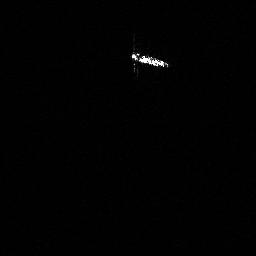ship: (130, 49, 170, 68)
